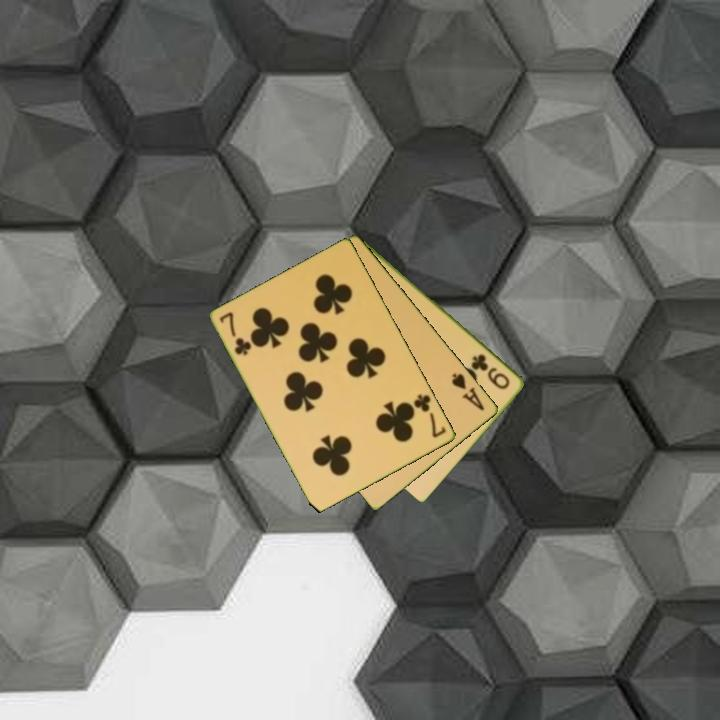7c: (410, 390, 449, 441), (216, 308, 254, 359)
9c: (468, 350, 513, 392)
As: (448, 369, 488, 414)
